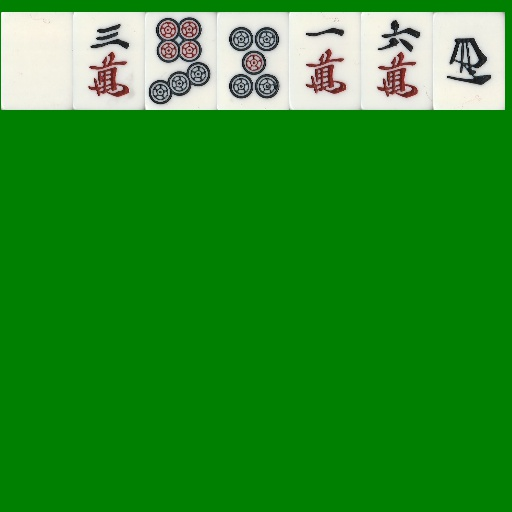1m: (289, 12, 361, 110)
3m: (73, 12, 145, 110)
5p: (217, 12, 289, 110)
6m: (361, 12, 433, 110)
7p: (145, 12, 217, 110)
west: (433, 12, 505, 110)
white: (1, 12, 73, 110)
